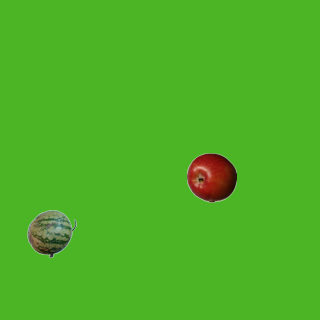Apple Braeburn: (186, 152, 236, 202)
Watermelon: (26, 208, 76, 258)
